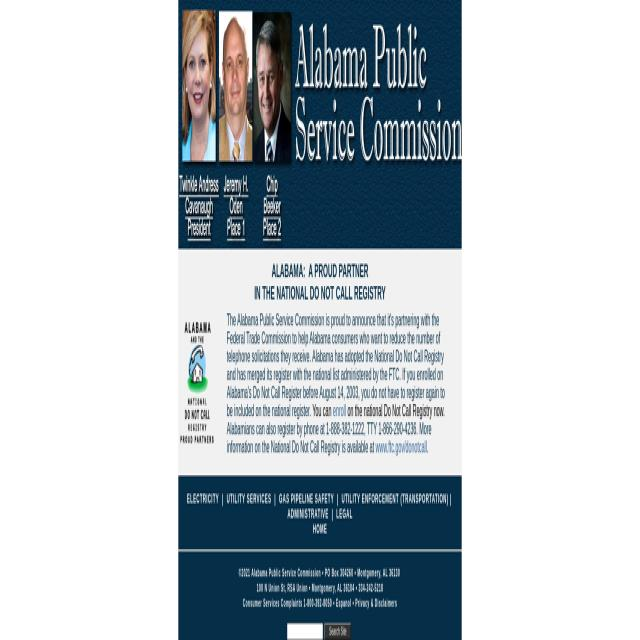button: (178, 0, 462, 250), (178, 317, 216, 447), (324, 623, 350, 640)
field: (287, 623, 322, 640)
